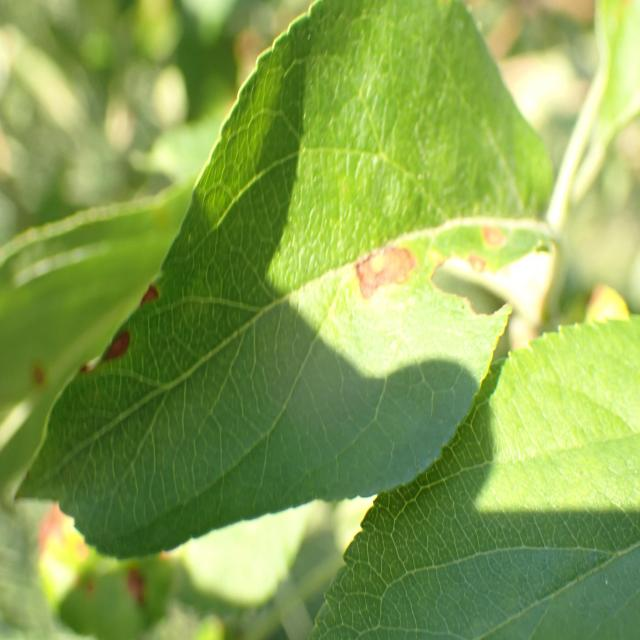Black Rot: (57, 242, 156, 395), (426, 214, 544, 340), (350, 215, 419, 316)
